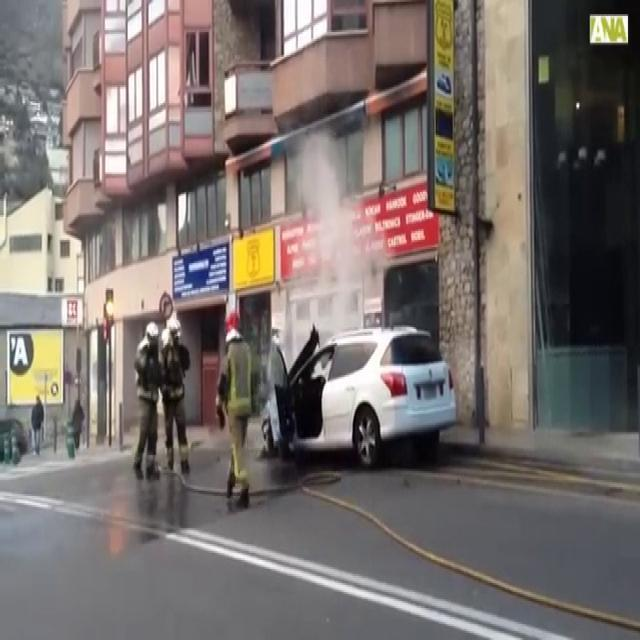Smoke: (286, 117, 382, 345)
